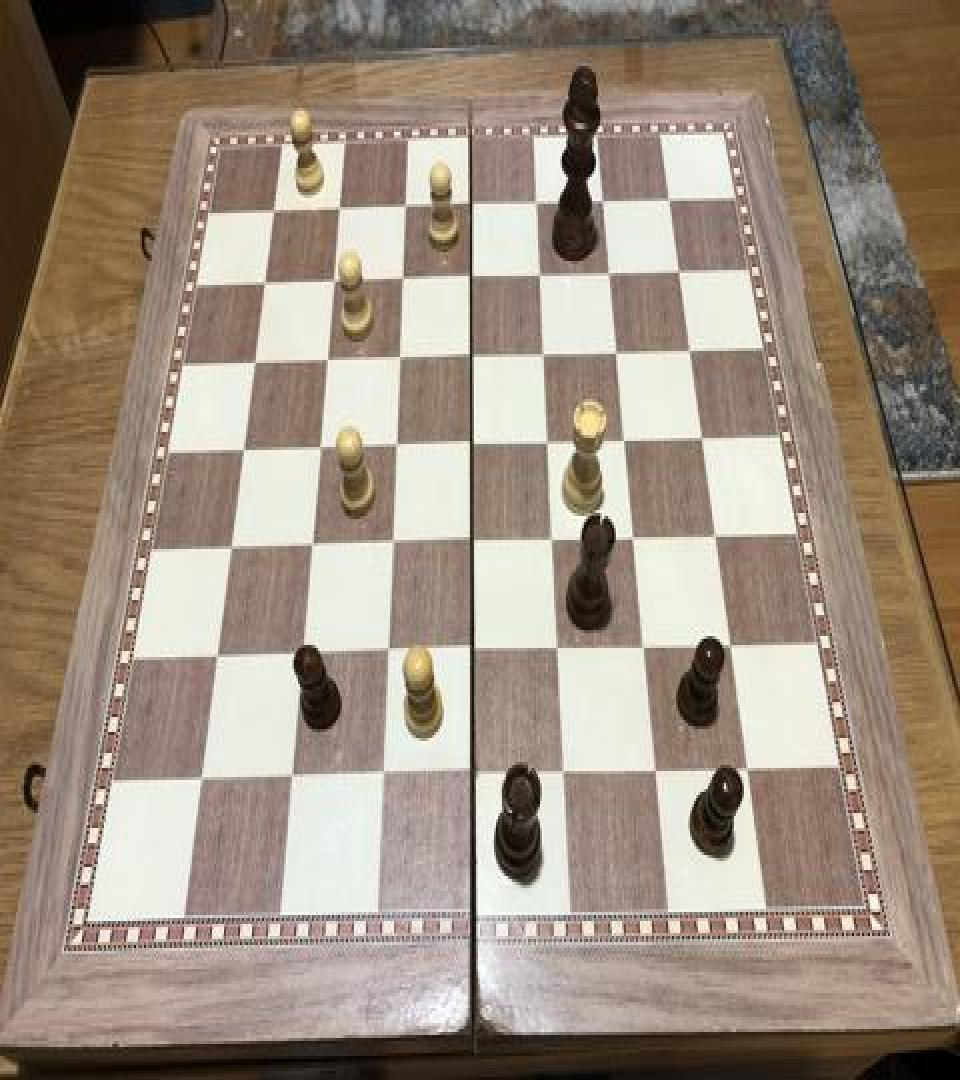xcorner: (625, 520, 649, 557), (291, 637, 315, 674), (205, 640, 229, 677), (646, 754, 670, 791), (661, 183, 685, 219), (595, 183, 619, 219), (529, 184, 553, 220), (463, 186, 487, 222), (264, 189, 288, 225), (671, 255, 695, 291), (602, 255, 626, 291), (532, 256, 556, 292), (463, 258, 487, 294), (324, 261, 348, 297), (255, 262, 279, 298), (681, 333, 705, 369), (609, 334, 633, 370), (536, 336, 560, 372), (463, 338, 487, 374), (390, 339, 414, 375), (317, 340, 341, 376), (244, 342, 268, 378), (693, 422, 717, 458), (617, 423, 641, 459), (540, 424, 564, 460), (463, 426, 487, 462), (386, 428, 410, 464), (309, 429, 333, 465), (706, 519, 730, 555), (544, 522, 568, 558), (463, 525, 487, 561), (382, 526, 406, 562), (301, 528, 325, 564), (219, 530, 243, 566), (721, 628, 745, 664), (635, 630, 659, 666), (549, 633, 573, 669), (463, 634, 487, 670), (377, 636, 401, 672), (737, 752, 761, 788), (555, 756, 579, 792), (464, 759, 488, 795), (372, 760, 396, 796), (280, 762, 304, 798), (188, 765, 212, 801), (397, 188, 421, 223), (330, 188, 354, 223), (394, 260, 418, 295), (232, 431, 256, 466)
